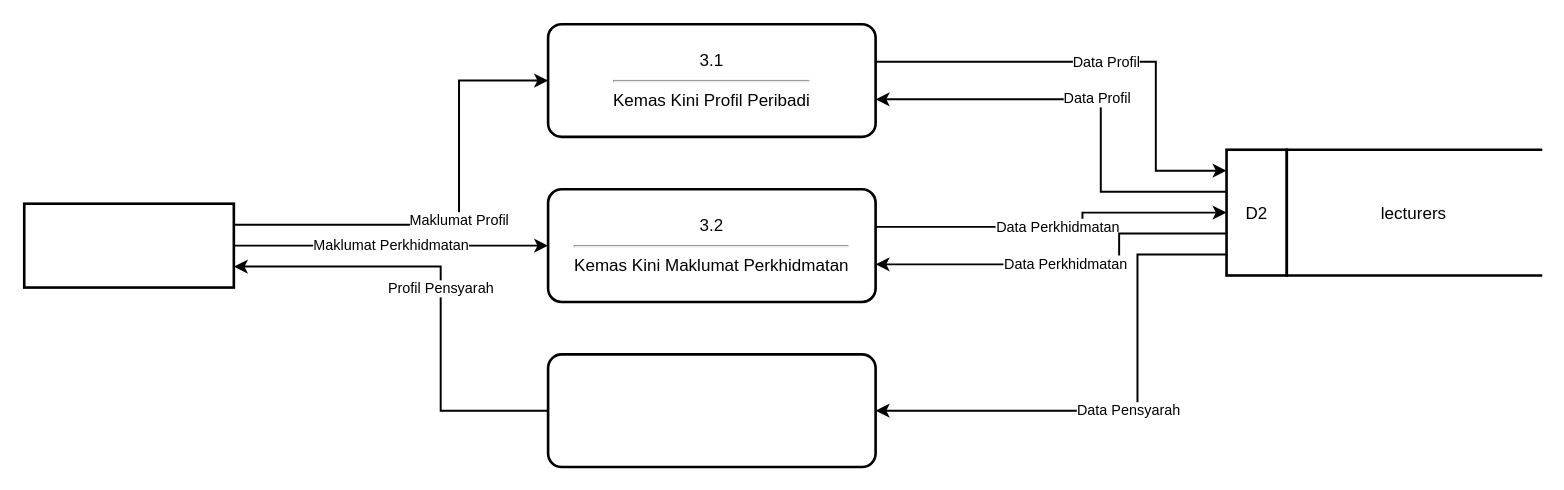
Image size: 1564x490. Some labels were removed from this diagram. Here are the shapes that lost their labels. From the top down, the box of each, then its label:
(22, 202, 234, 288): Pensyarah
(546, 352, 876, 468): 3.3 Papar Profil Pensyarah
